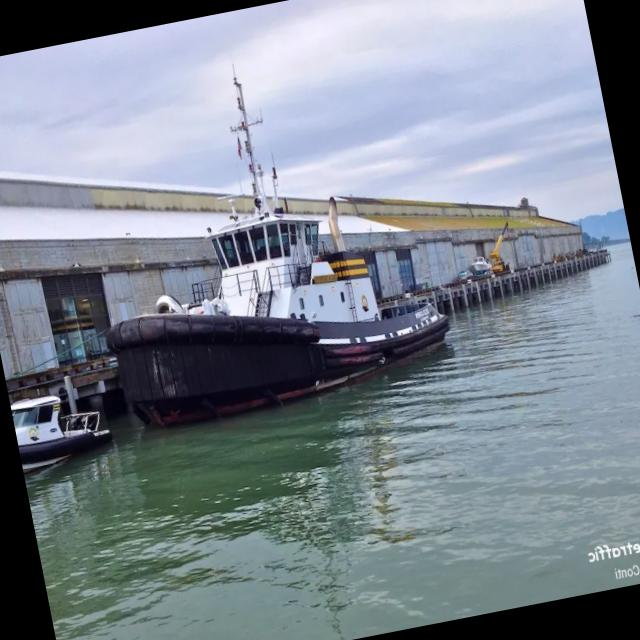Tug: (108, 77, 449, 426)
